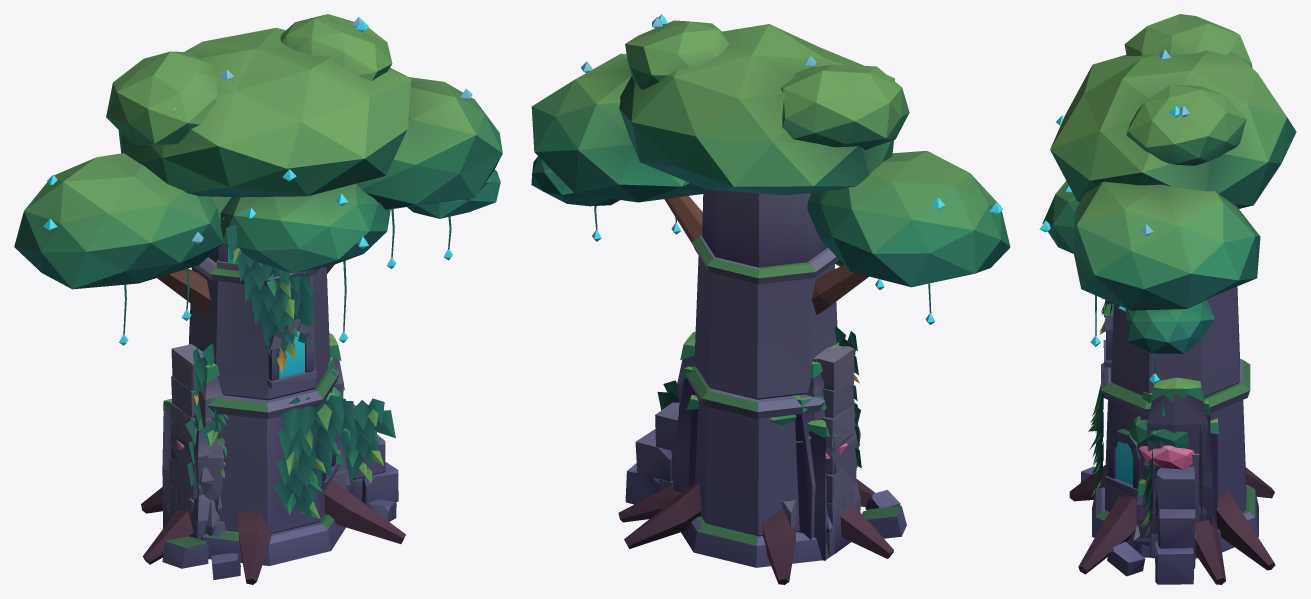
File: env_forest.glb
The picture shows the model from 3 angles, left to right: view 1: azimuth 30°, elevation 25°; view 2: azimuth 150°, elevation 25°; view 3: azimuth 270°, elevation 25°; orthographic projection. The views are drawn at different scales.
Visible parts, largest first — view 1: backdrop_tree, backdrop_tower, wall_ruin_a, wall_cliff_a, wall_cliff_b, wall_cliff_c, wall_ruin_b; view 2: backdrop_tree, backdrop_tower, wall_cliff_b, wall_ruin_a, wall_cliff_c, wall_cliff_a, wall_ruin_b; view 3: backdrop_tree, backdrop_tower, wall_cliff_b, wall_cliff_c, tree_a, tree_c, wall_cliff_a, wall_ruin_b.
Boxes of the visible parts, box(x1,y1,x2,y2) form: backdrop_tree: box(14, 14, 502, 584); backdrop_tower: box(162, 196, 398, 579); wall_ruin_a: box(171, 343, 214, 515); wall_cliff_a: box(170, 357, 334, 540); wall_cliff_b: box(169, 333, 350, 536); wall_cliff_c: box(162, 398, 346, 536); wall_ruin_b: box(167, 386, 345, 522); backdrop_tree: box(531, 14, 1010, 584); backdrop_tower: box(625, 189, 906, 567); wall_cliff_b: box(673, 331, 860, 540); wall_ruin_a: box(813, 326, 859, 531); wall_cliff_c: box(686, 395, 834, 560); wall_cliff_a: box(679, 343, 860, 554); wall_ruin_b: box(821, 403, 857, 557); backdrop_tree: box(1039, 14, 1296, 584); backdrop_tower: box(1080, 286, 1258, 584); wall_cliff_b: box(1136, 377, 1212, 537); wall_cliff_c: box(1133, 418, 1219, 550); tree_a: box(1129, 416, 1188, 448); tree_c: box(1139, 445, 1194, 469); wall_cliff_a: box(1137, 391, 1206, 534); wall_ruin_b: box(1150, 399, 1199, 558).
Bounding box in the file's own units: 12.22 × 12.52 × 6.12.
